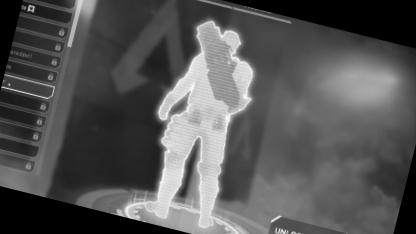Target: (140, 5, 274, 204)
